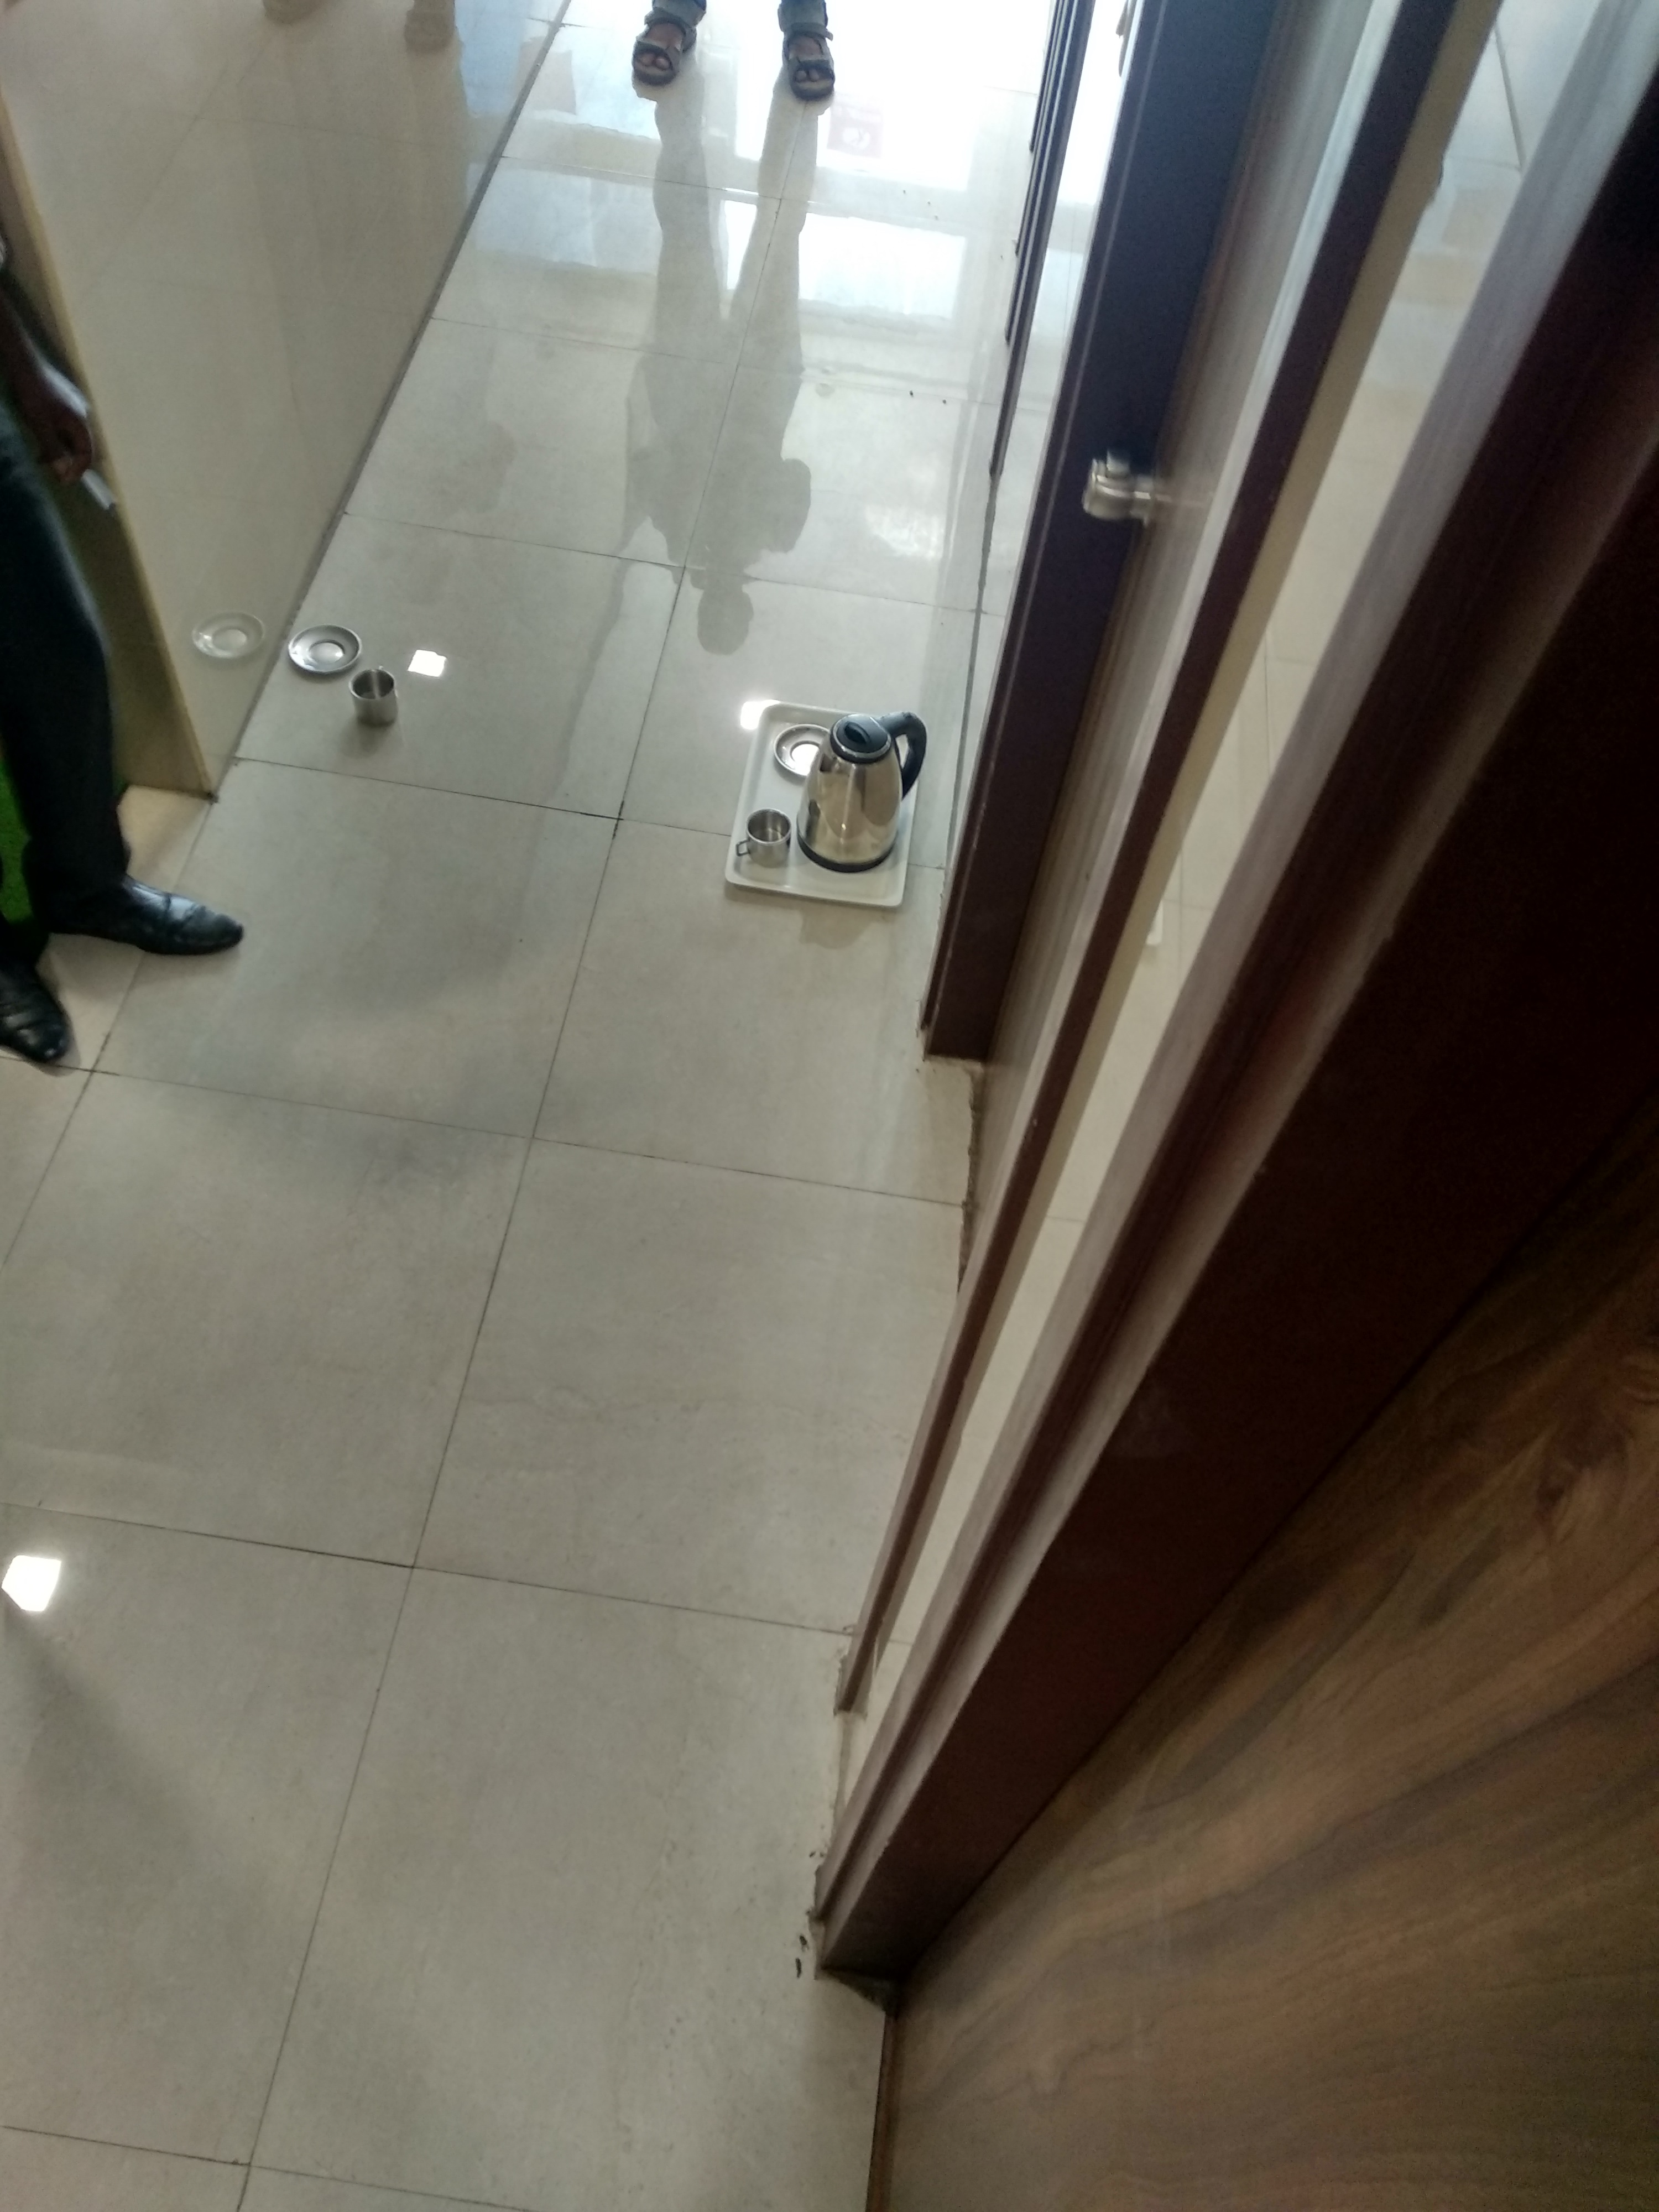CUP: (728, 808, 802, 860), (356, 672, 397, 726)
FLASK: (802, 700, 931, 876)
